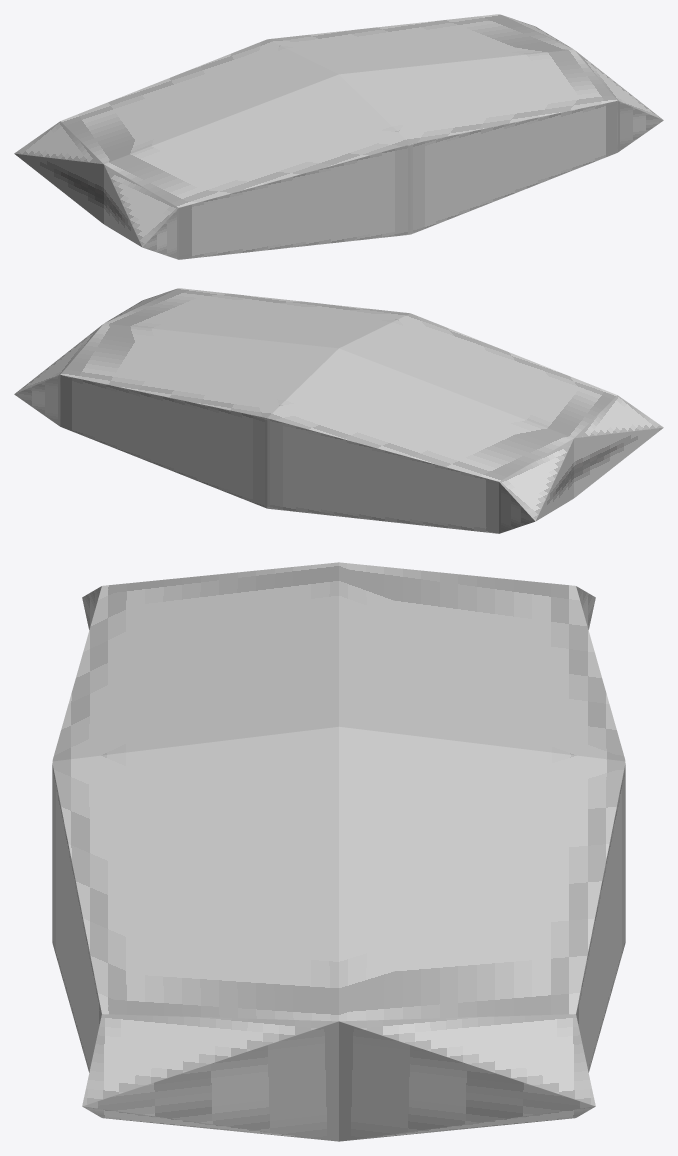
Rendered from Pillow.fbx.
3 renders of one model, top to bottom at view 1: azimuth 30°, elevation 25°; view 2: azimuth 150°, elevation 25°; view 3: azimuth 270°, elevation 25°, orthographic. The views are drawn at different scales.
Parts seen in each view (by area): view 1: Pillow; view 2: Pillow; view 3: Pillow.
Part boxes in pixels (left/top/right/bottom): Pillow: left=14, top=14, right=663, bottom=259; Pillow: left=14, top=288, right=663, bottom=533; Pillow: left=52, top=562, right=625, bottom=1141.
Bounding box in the file's own units: 87.67 × 20.12 × 41.75.
Materials: 1 (1 with a texture image).
